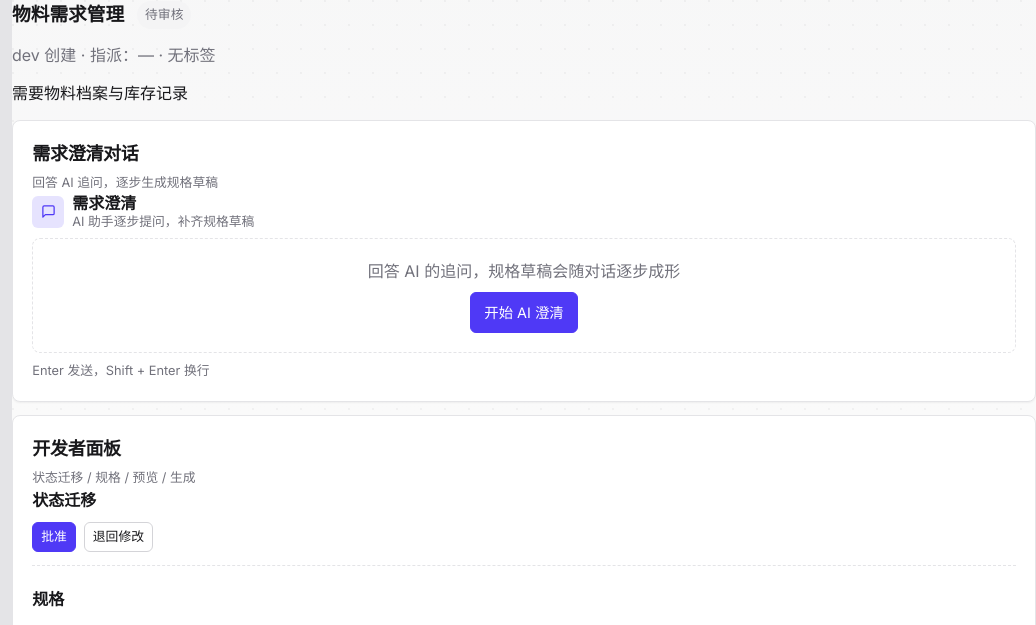
Scenario: IssueDetail AI 对话（clarify，FR-ISSUE-03） › 提交回答后生成规格草稿：spec 更新并提示
Click the button "开始 AI 澄清" at (524,313), box [470,292,578,333]
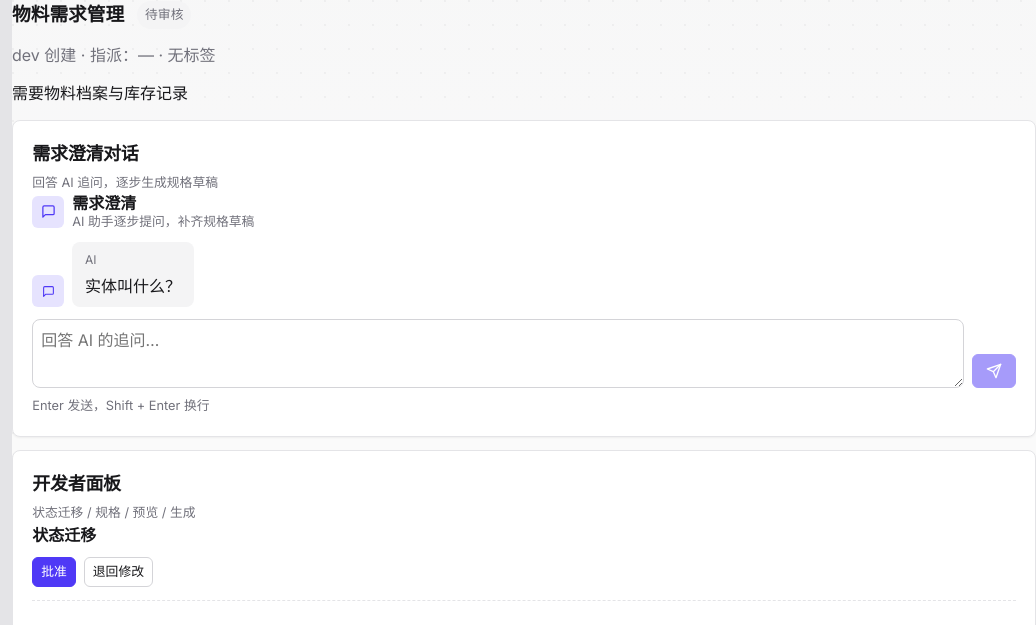
Type "物料档案 material_archive" into the text box with test id "clarify-input" at (498,354), box [32,319,964,388]
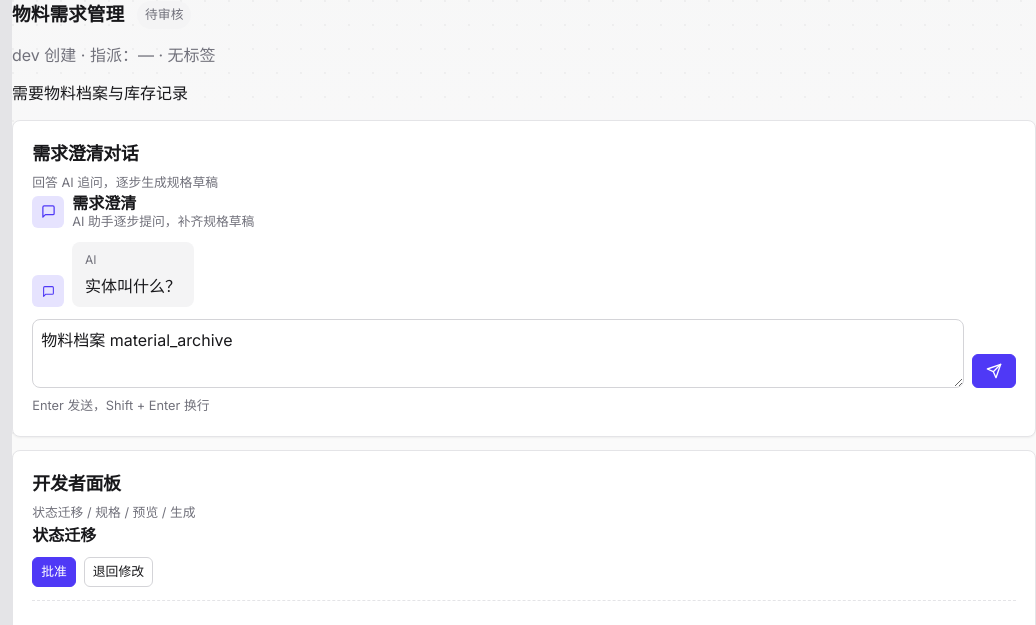
Click the button with test id "clarify-send" at (994,371), box [972,354,1016,388]
(page scrolled)
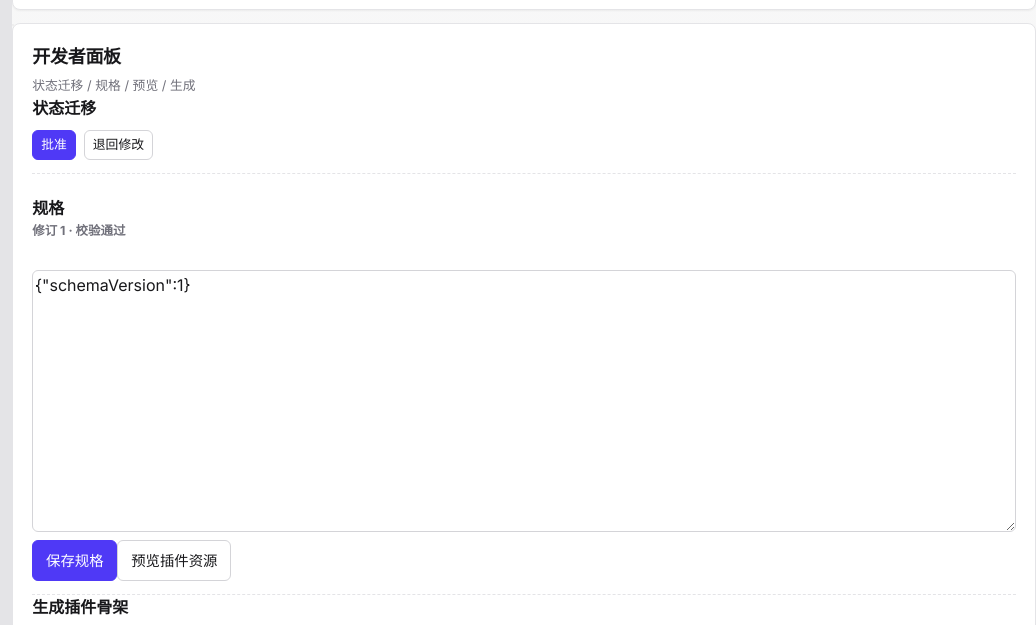
Expected: the element with test id "spec-section" shows "修订 1", [32,223,125,238]
